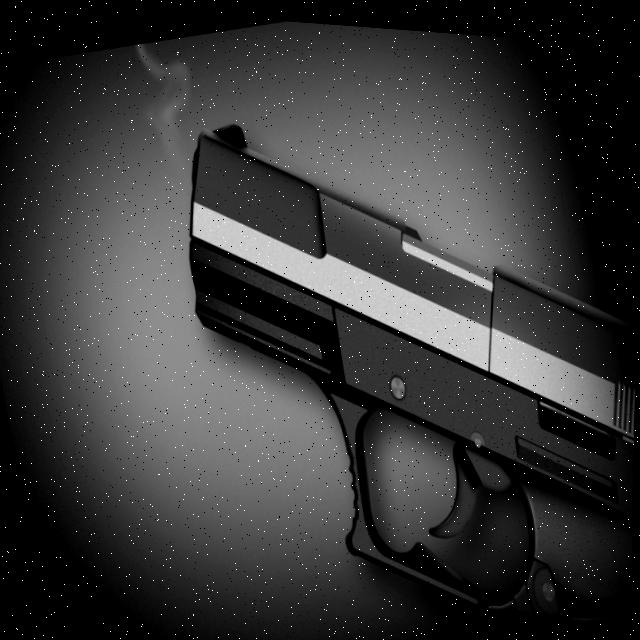pistol: (152, 35, 640, 640)
